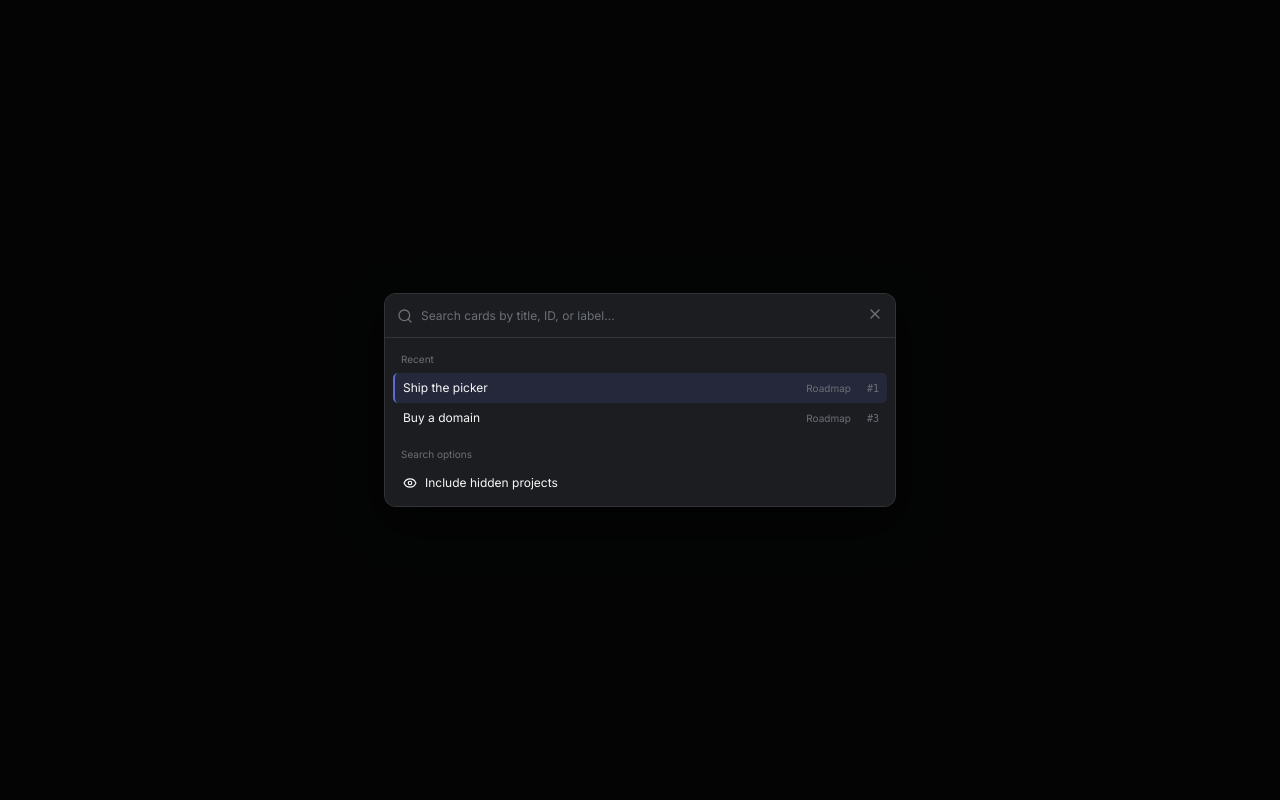
Test: SearchDialog — hidden projects (UNIT-20) › keeps the empty state reachable with the toggle row on screen
The image size is (1280, 800).
Type "zzzznope" into the dropdown with placeholder "Search cards by title, ID, or label…". click: (652,316)
box: [421,296,883,336]
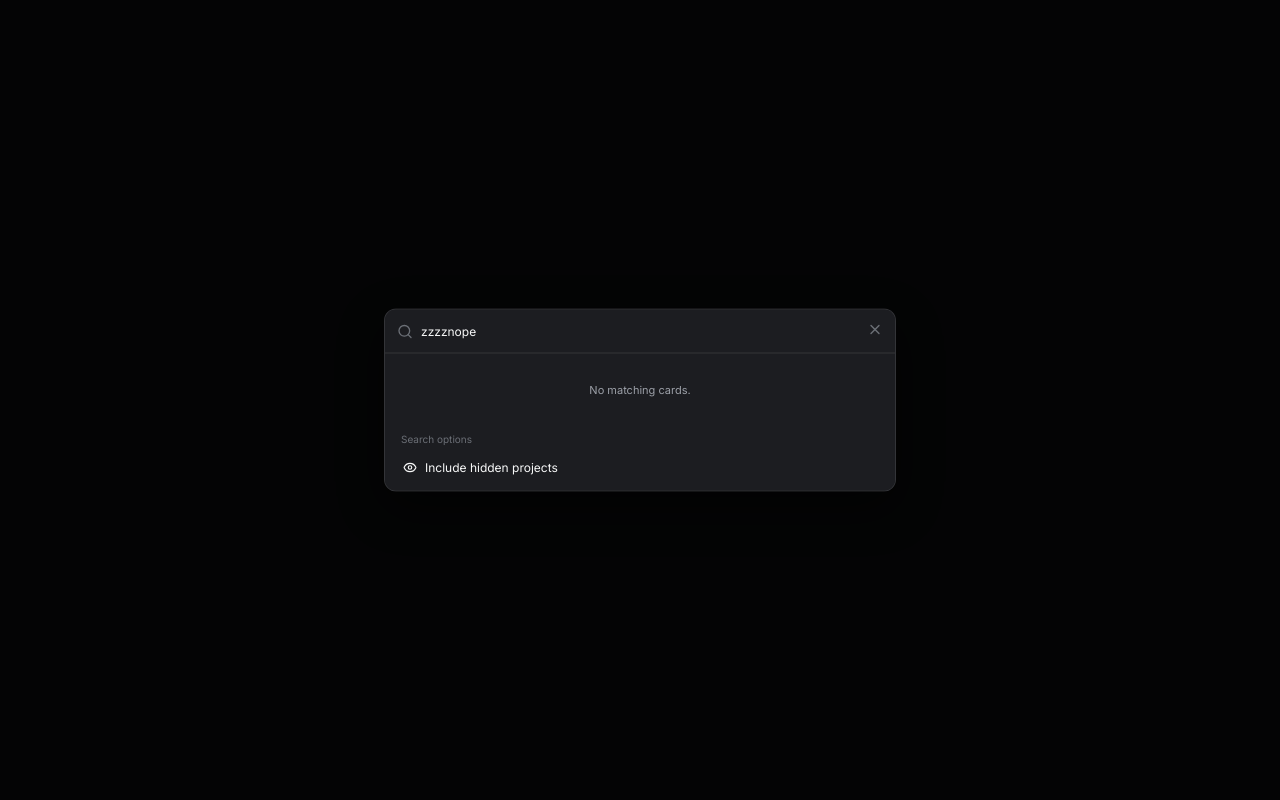
Expected: the option "Include hidden projects" is shown, [403,460,558,474]
Result: the text "No matching cards." is shown at [589,382,691,396]
